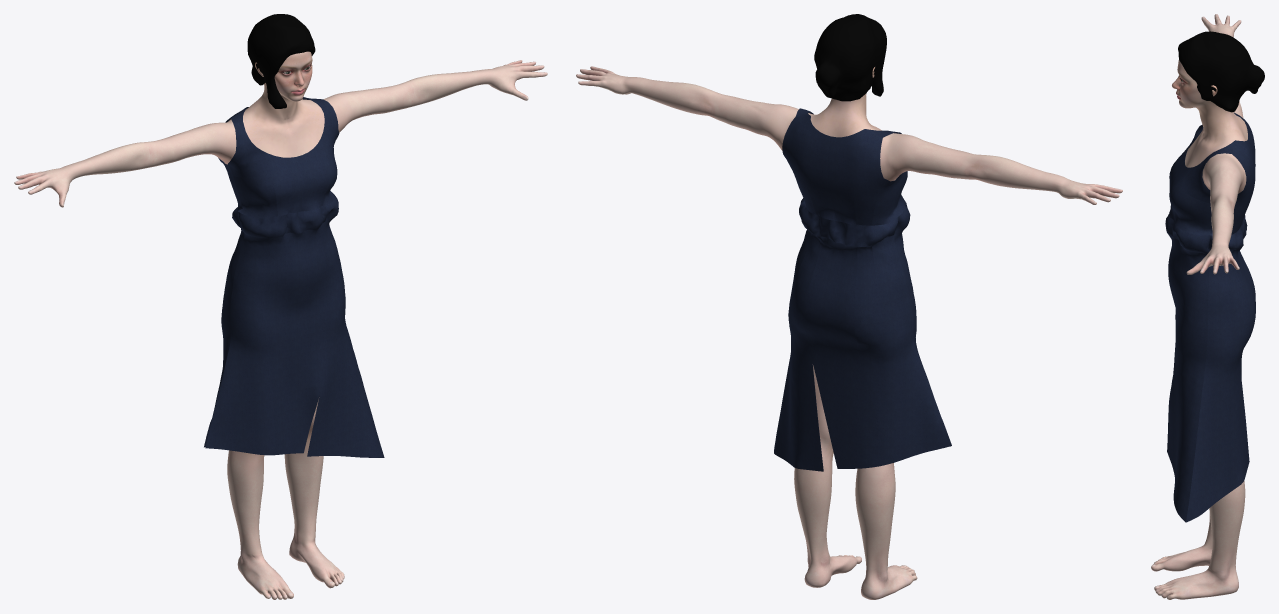
File: Dramatic.obj
The picture shows the model from 3 angles, left to right: view 1: azimuth 30°, elevation 25°; view 2: azimuth 150°, elevation 25°; view 3: azimuth 270°, elevation 25°; orthographic projection. The views are drawn at different scales.
Size of the model in its own units: 1745 by 1762 by 333.
